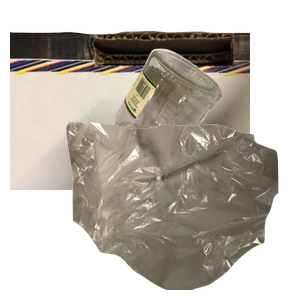cardboard: (10, 29, 250, 209)
glass: (110, 46, 300, 205)
plastic: (99, 120, 289, 300)
trash: (64, 120, 300, 300)
